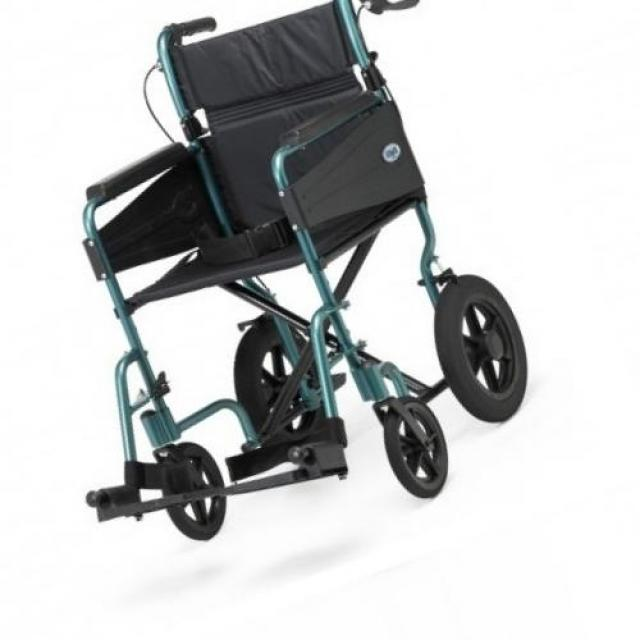wheelchair: (61, 2, 551, 560)
